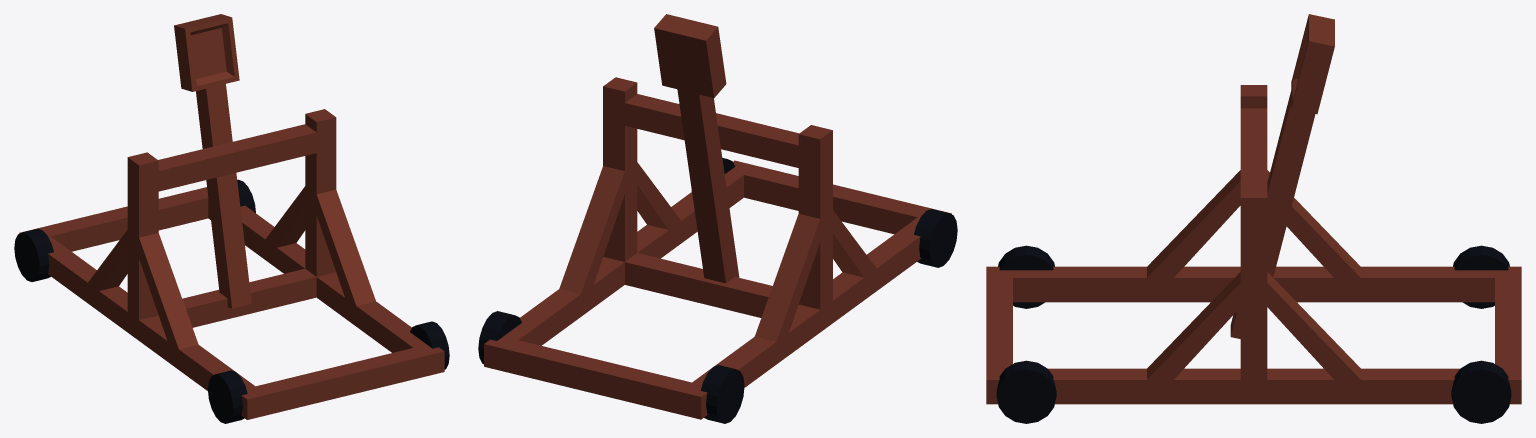
The model's file is CatapultLaunched.fbx.
The picture shows the model from 3 angles, left to right: view 1: azimuth 30°, elevation 25°; view 2: azimuth 150°, elevation 25°; view 3: azimuth 270°, elevation 25°; orthographic projection. The views are drawn at different scales.
Visible parts, largest first — view 1: Catapult; view 2: Catapult; view 3: Catapult.
Boxes of the visible parts, x1,y1,x2,y2 form: Catapult: (14,14,449,423); Catapult: (478,14,957,423); Catapult: (986,14,1521,423).
Bounding box in the file's own units: 110 × 138 × 200.
